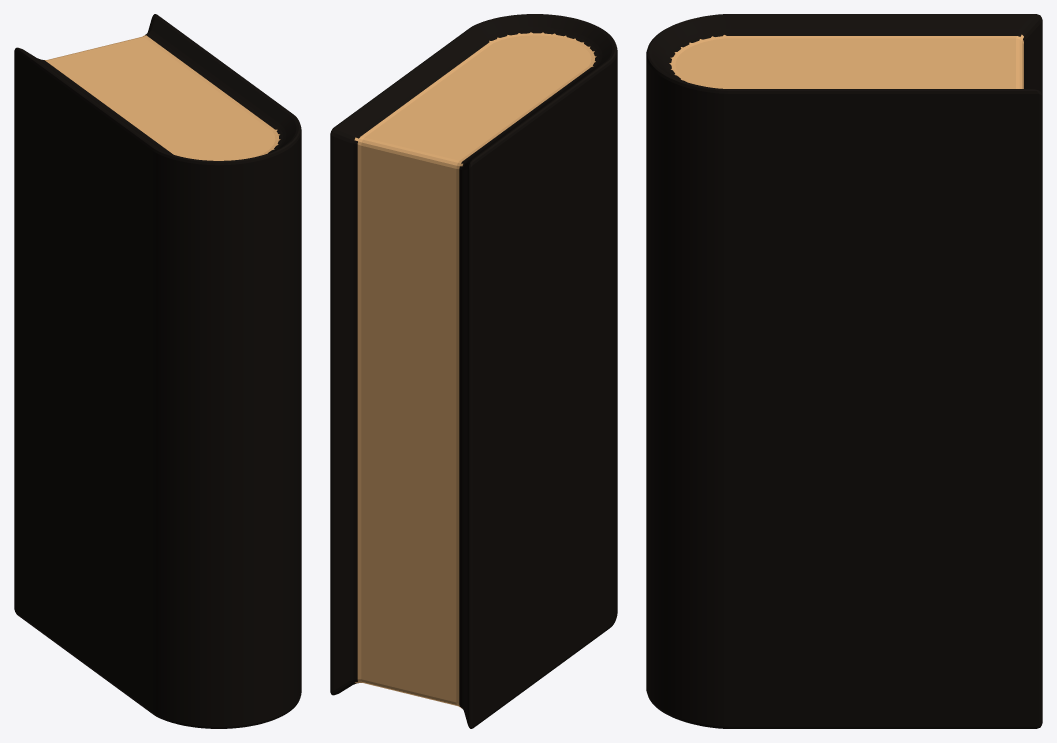
Rendered from book_1.glb.
3 renders of one model, left to right at view 1: azimuth 30°, elevation 25°; view 2: azimuth 150°, elevation 25°; view 3: azimuth 270°, elevation 25°, orthographic. The views are drawn at different scales.
Visible parts, largest first — view 1: book_1.003; view 2: book_1.003; view 3: book_1.003.
Boxes of the visible parts, left/top/right/bottom form: book_1.003: left=14, top=14, right=301, bottom=728; book_1.003: left=330, top=14, right=617, bottom=728; book_1.003: left=646, top=14, right=1042, bottom=728.
Bounding box in the file's own units: 0.1284 × 0.4936 × 0.2772.
